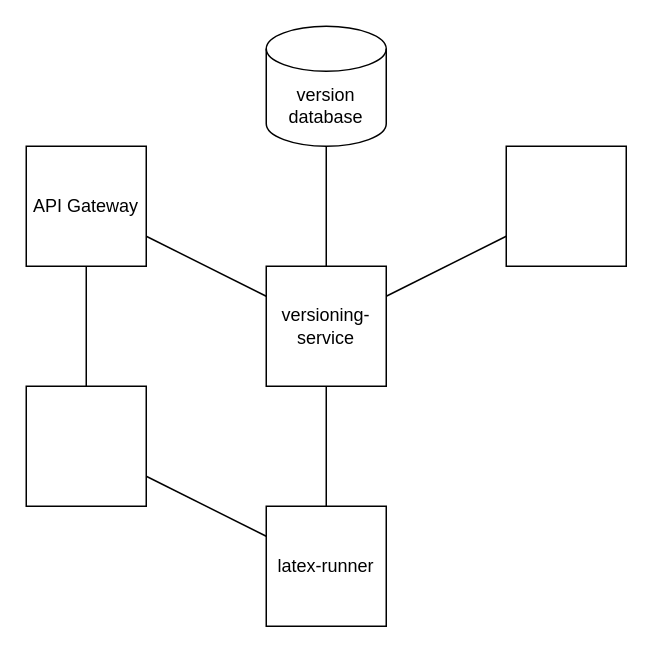
Image size: 653x653. Some labels were removed from this diagram. The shapes that lost their labels are listed below. From the top down, each one's centre as x and y in pixels, then its label:
point 565,205: verfication-runner
point 85,445: PDF file server
